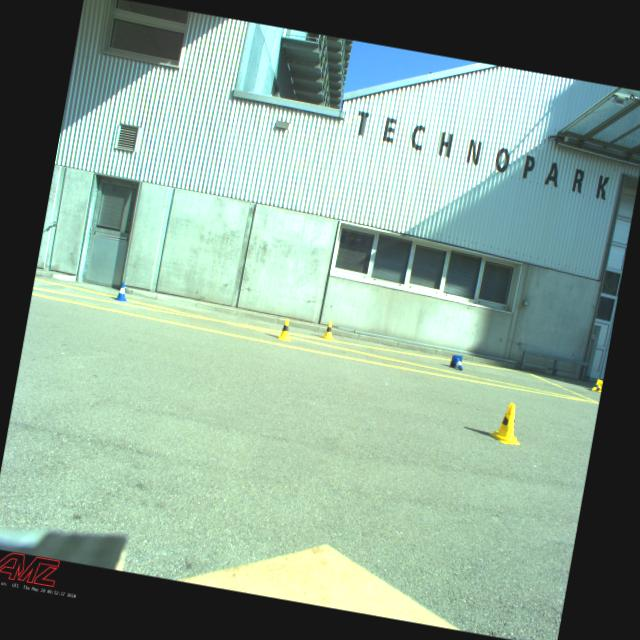blue_cone: (112, 281, 130, 302), (450, 354, 464, 371)
yellow_cone: (487, 400, 526, 446), (276, 318, 294, 342), (321, 320, 336, 340), (590, 378, 603, 392)
